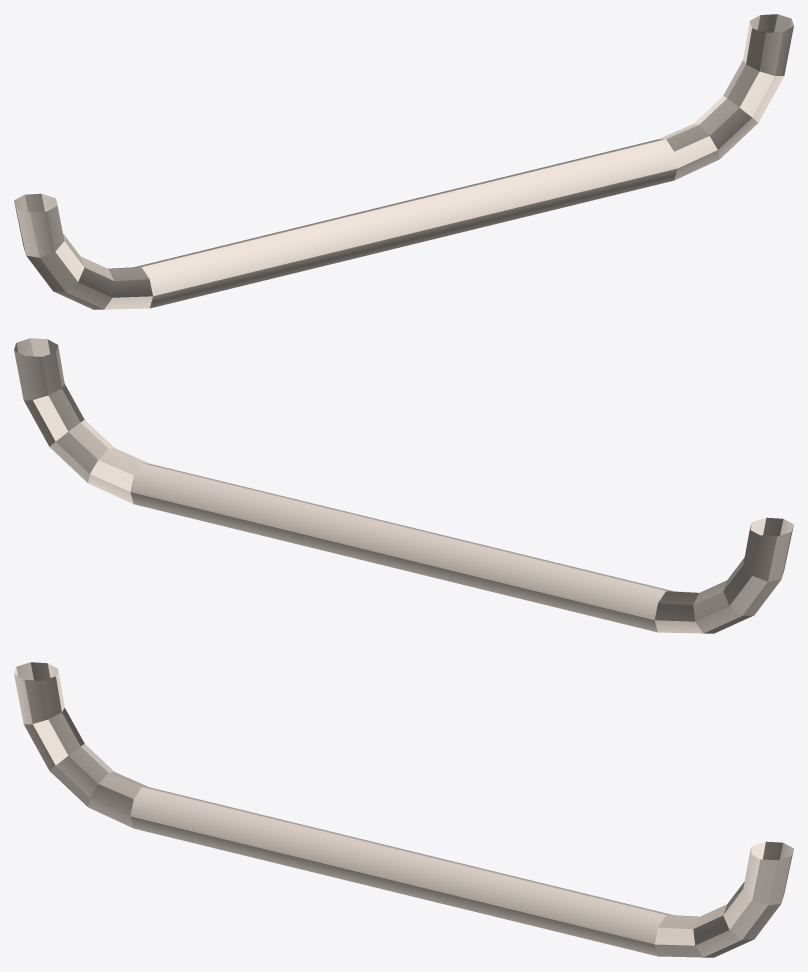
File: ToasterLever_22_ToasterLever_22_1_GeomSubset_2.obj
The picture shows the model from 3 angles, top to bottom: view 1: azimuth 30°, elevation 25°; view 2: azimuth 150°, elevation 25°; view 3: azimuth 330°, elevation 25°; orthographic projection.
Visible parts, largest first — view 1: ToasterLever_22_ToasterLever_22_1_GeomSubset_2; view 2: ToasterLever_22_ToasterLever_22_1_GeomSubset_2; view 3: ToasterLever_22_ToasterLever_22_1_GeomSubset_2.
Part boxes in pixels (left/top/right/bottom): ToasterLever_22_ToasterLever_22_1_GeomSubset_2: left=14, top=14, right=793, bottom=309; ToasterLever_22_ToasterLever_22_1_GeomSubset_2: left=14, top=338, right=793, bottom=633; ToasterLever_22_ToasterLever_22_1_GeomSubset_2: left=14, top=662, right=793, bottom=957.
Bounding box in the file's own units: 0.1427 × 0.0231 × 0.0073.
